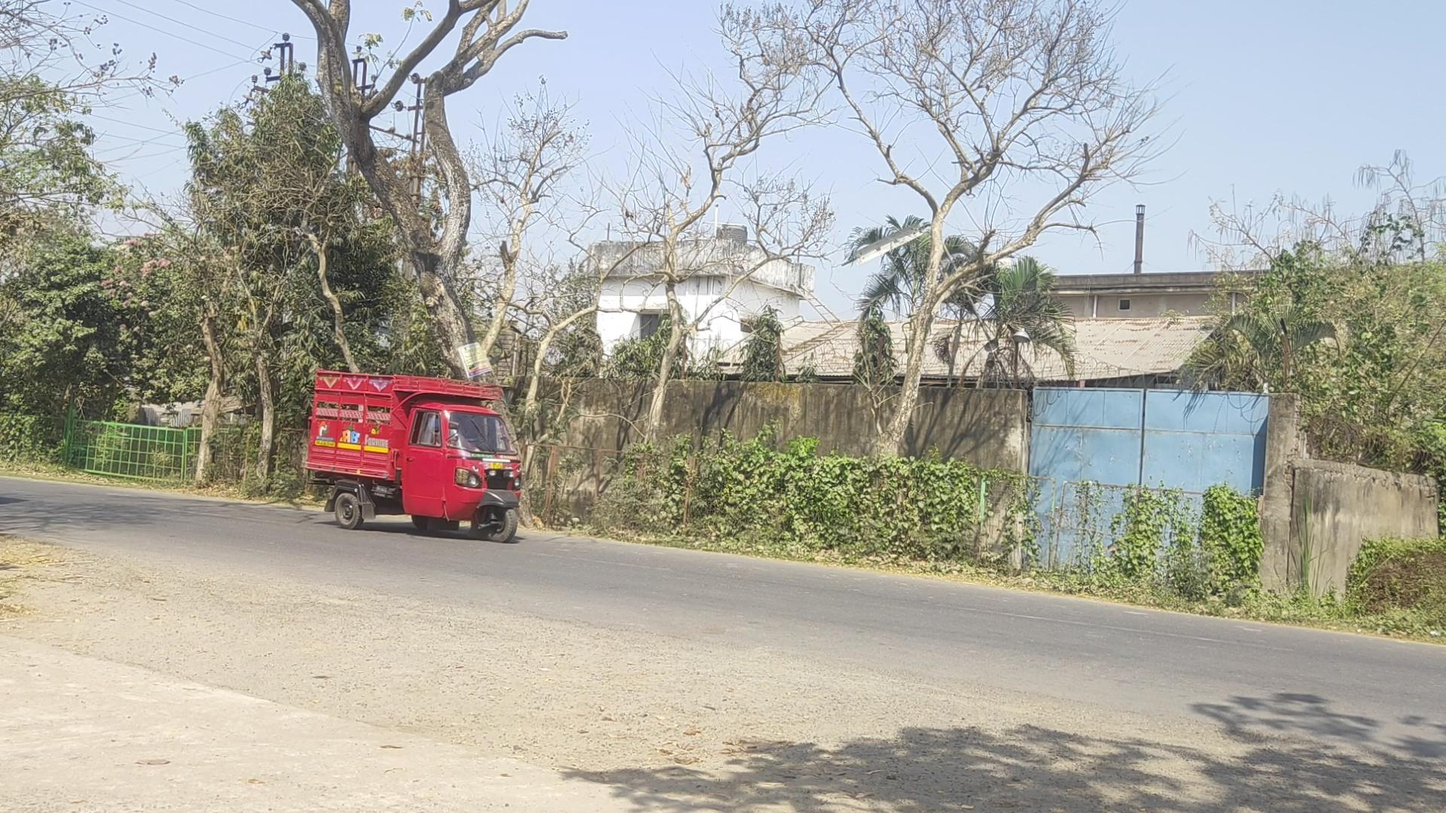van: (306, 368, 523, 544)
